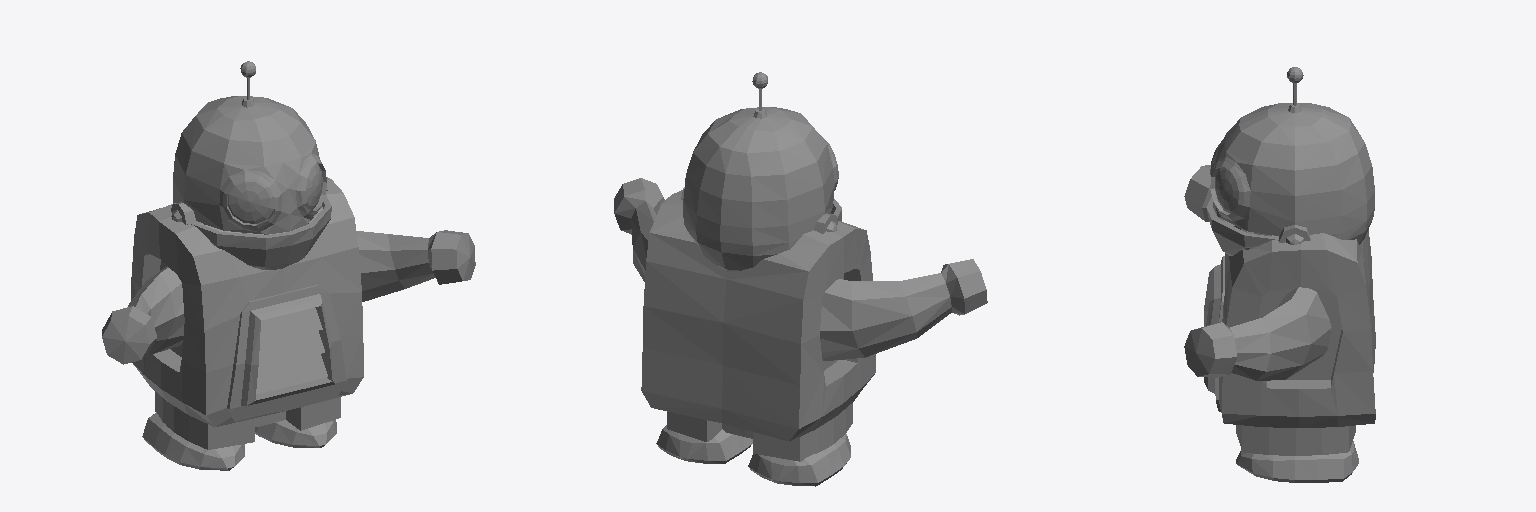
Rendered from bodyheli.obj.
3 renders of one model, left to right at view 1: azimuth 30°, elevation 25°; view 2: azimuth 150°, elevation 25°; view 3: azimuth 270°, elevation 25°, orthographic.
Visible parts, largest first — view 1: Mesh0; view 2: Mesh0; view 3: Mesh0.
Boxes of the visible parts, <box> form: Mesh0: <box>102,61,475,470</box>; Mesh0: <box>614,72,987,486</box>; Mesh0: <box>1184,67,1375,482</box>.
Size of the model in its own units: 19.2 by 18.55 by 8.54.